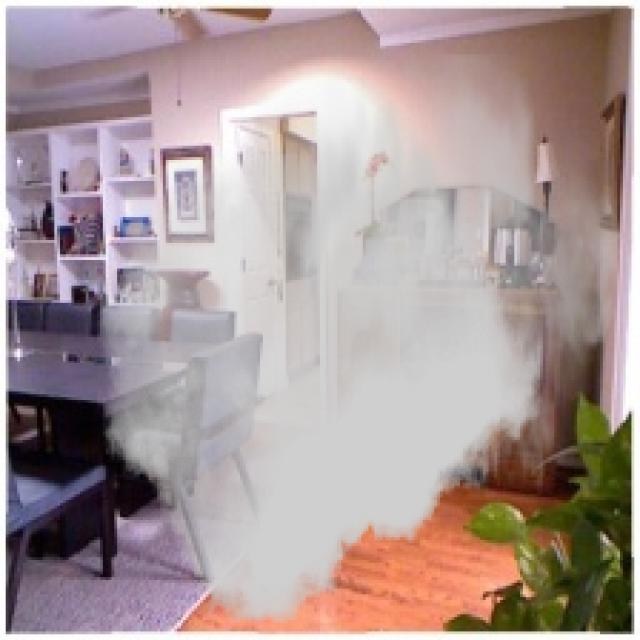smoke: (97, 54, 617, 623)
